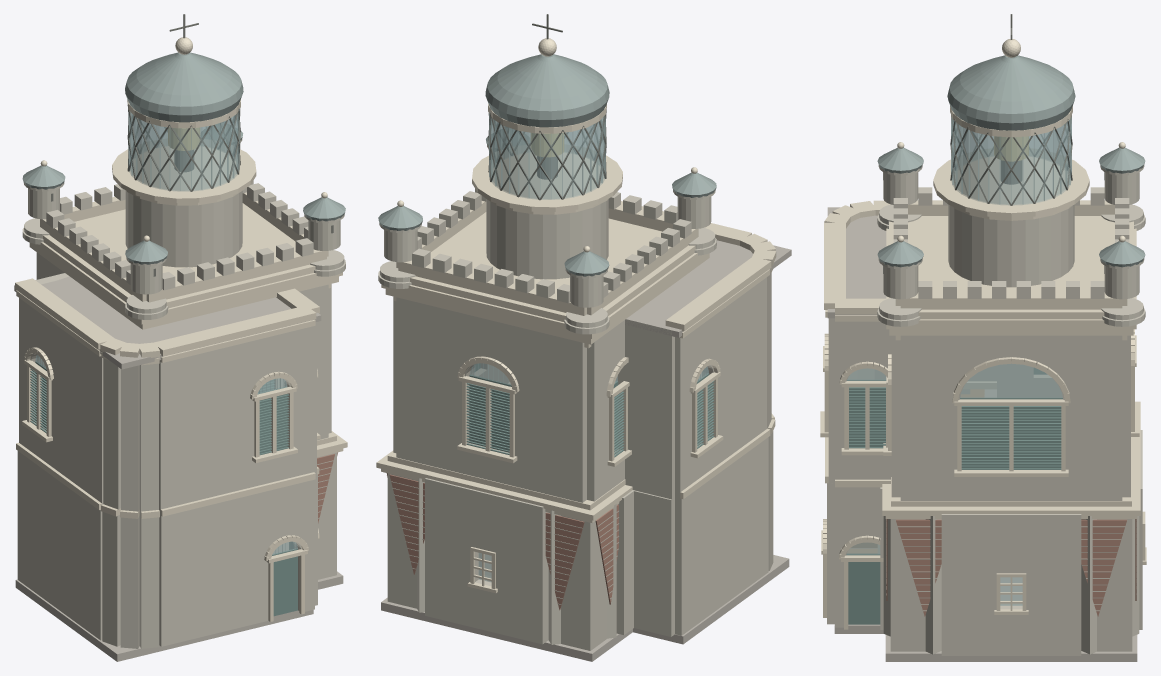
The model's file is lighthouse-base.glb.
3 views of the same model, side by side, from view 1: azimuth 30°, elevation 25°; view 2: azimuth 150°, elevation 25°; view 3: azimuth 270°, elevation 25° (orthographic). The views are drawn at different scales.
Size of the model in its own units: 7.82 by 15.76 by 7.84.
